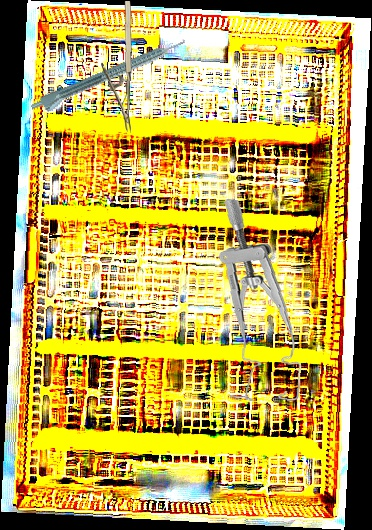Handpiece: (28, 36, 191, 119)
Needle Holder: (98, 0, 136, 133)
Speculum: (210, 198, 312, 404)
